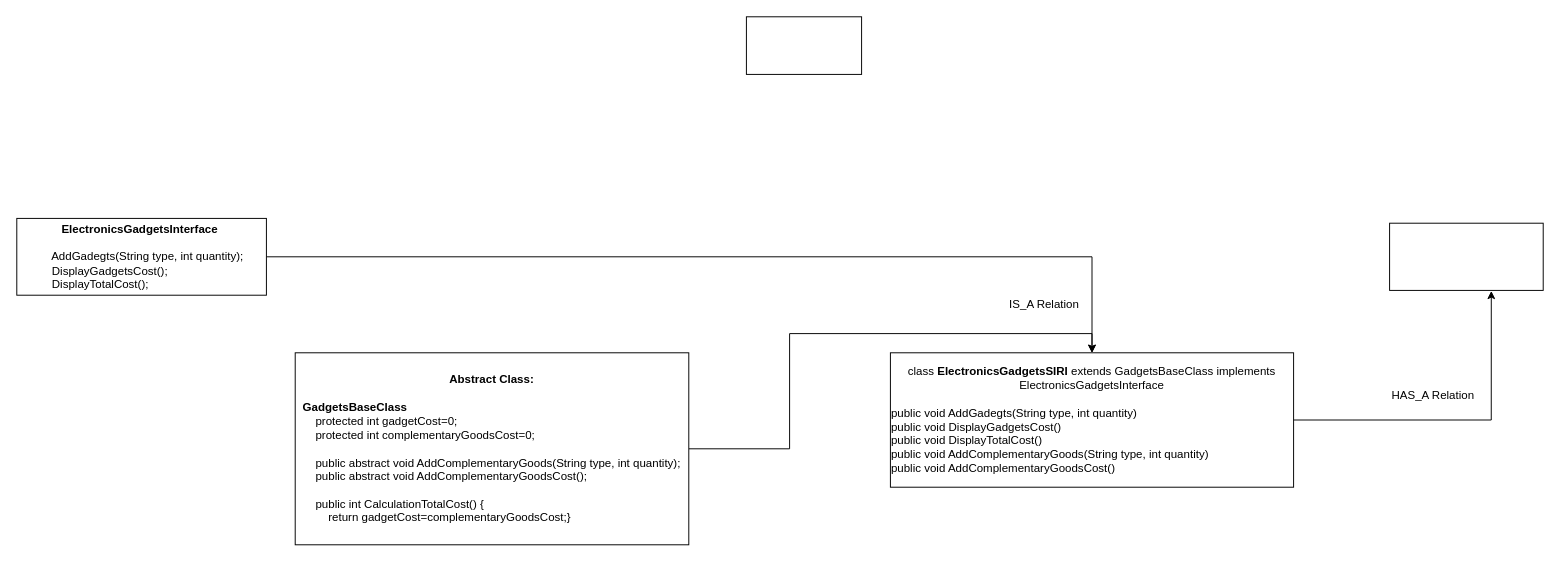
Some shapes in this 1560 by 562 pixel diagram are drawn without their labels. Each missing label, with the centre of its shape:
"CustomerOrder main method" goes at point 1466,256.
"Electronics Gadgets SIRI" goes at point 803,45.
